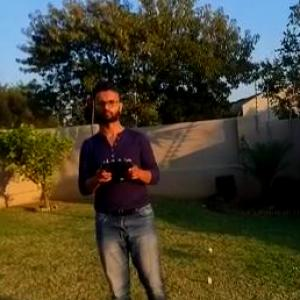follow: (72, 75, 173, 299)
